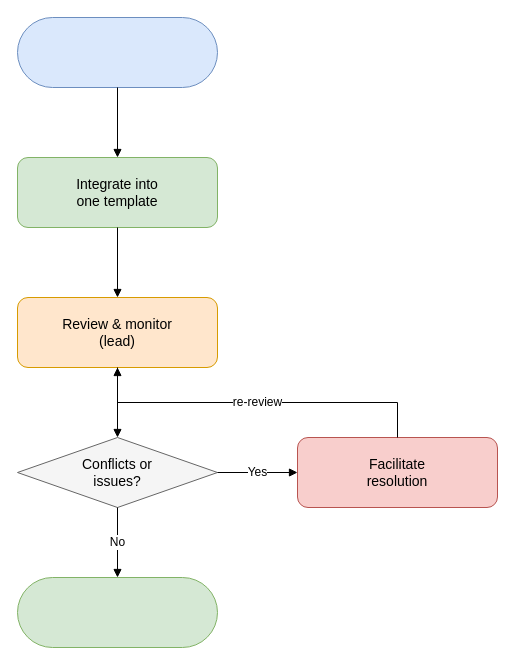
This 515x665 diagram has some shape labels left out. The shapes that lost their labels are listed below. From the top down, each one's box as (x1, y1, x2, y2) in pixels, then its label:
(16, 16, 218, 88): Component drafts (each member)
(16, 576, 218, 648): Team sign-off
